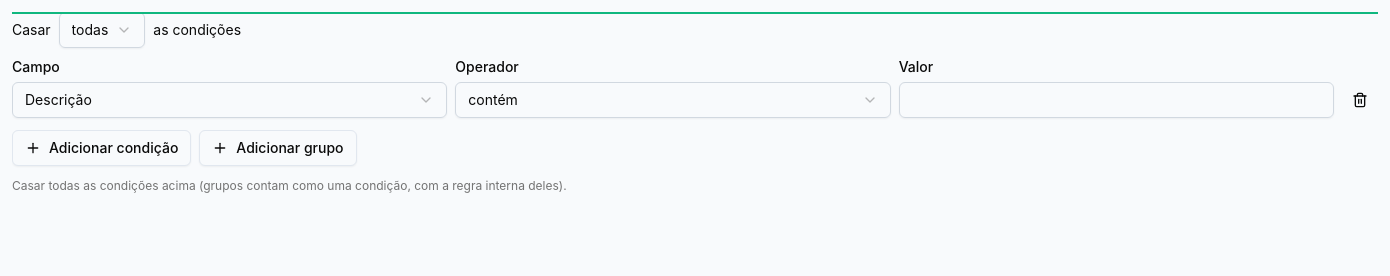
Test: ConditionList › adiciona e remove uma condição
Expected: the number of buttons named "Remover condição" is 1, x1=1342 y1=82 x2=1378 y2=118
Click the button "Adicionar condição": x=102, y=148 x1=12 y1=130 x2=191 y2=166
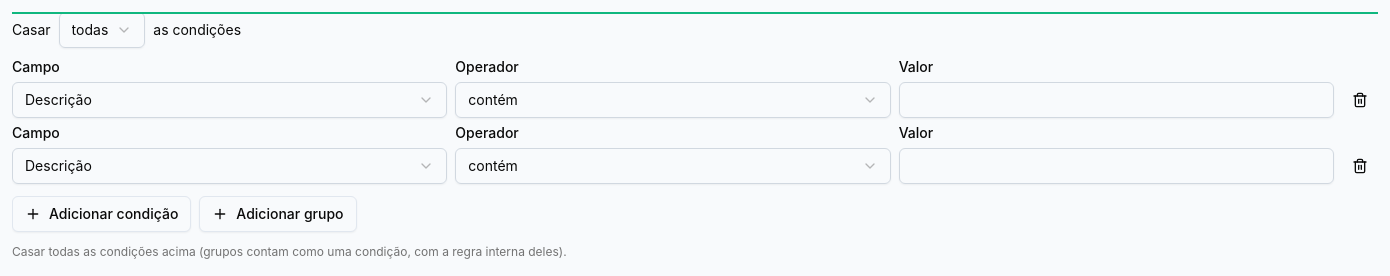
Now the number of buttons named "Remover condição" is 2
Click the button named "Remover condição": x=1360, y=100 x1=1342 y1=82 x2=1378 y2=118
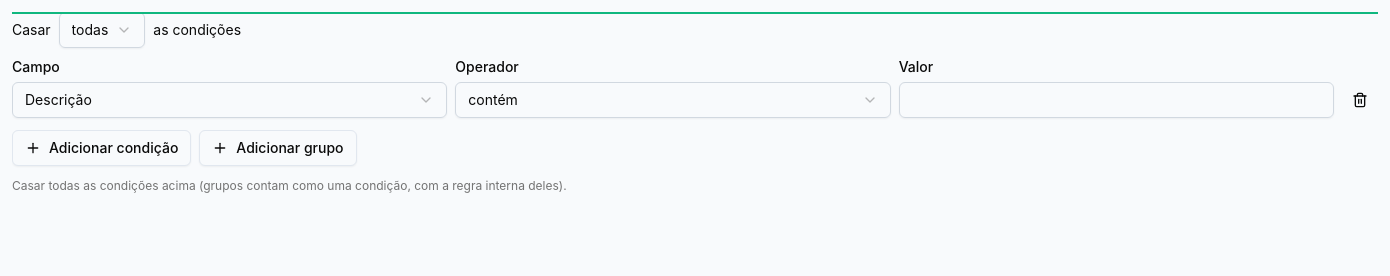
Now the number of buttons named "Remover condição" is 1, box x1=1342 y1=82 x2=1378 y2=118
